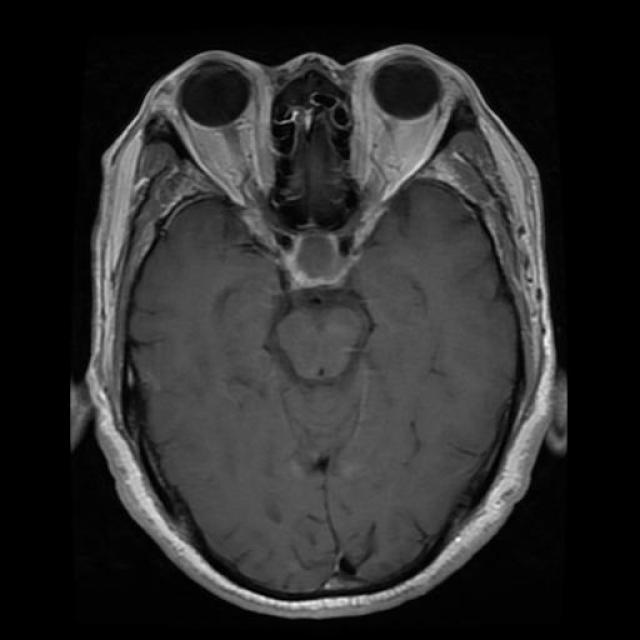pituitary: (284, 226, 360, 308)
